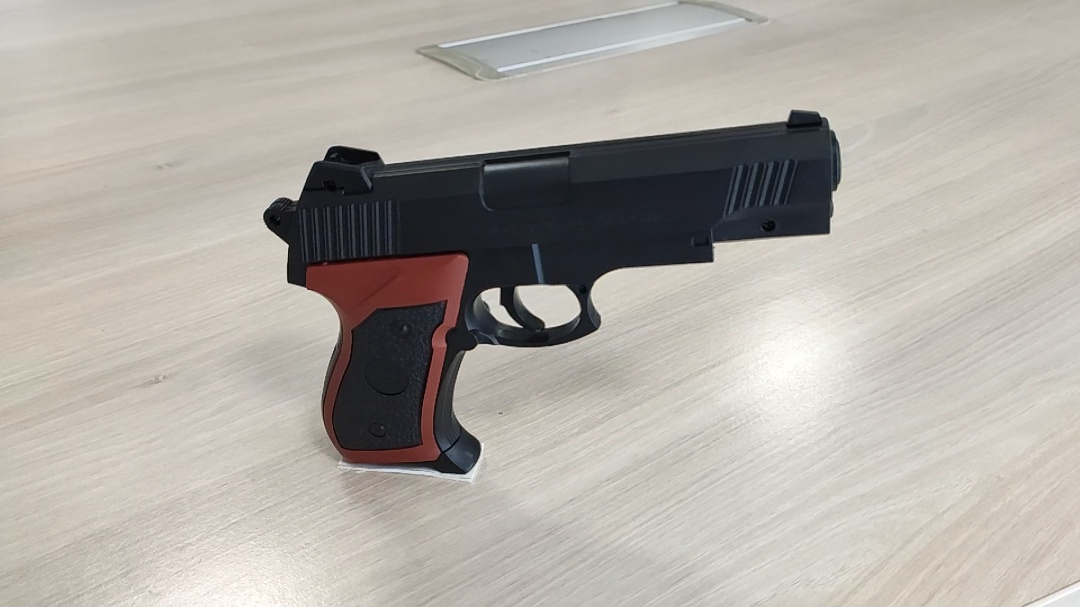gun: (594, 275, 645, 318)
